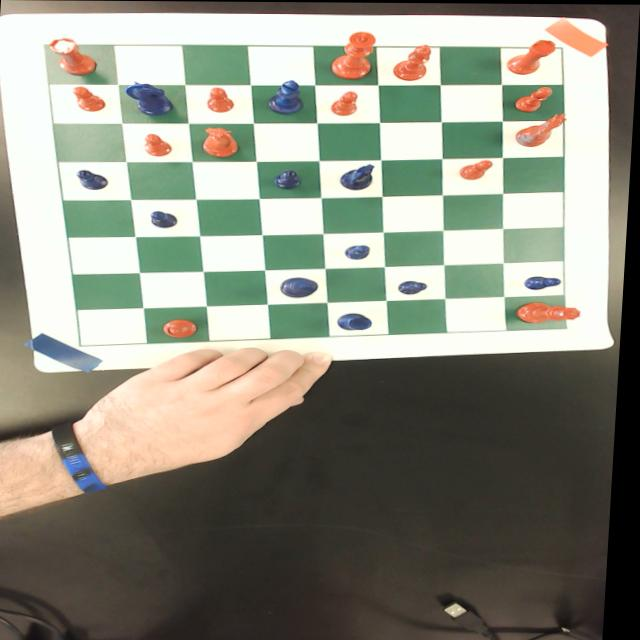B: (266, 80, 305, 114)
K: (281, 276, 322, 298)
N: (124, 82, 176, 116), (341, 164, 376, 190)
P: (76, 169, 111, 190), (274, 169, 304, 188), (150, 210, 181, 228), (526, 275, 565, 289), (399, 280, 432, 295), (347, 244, 373, 260)
R: (340, 313, 375, 331)
b: (390, 44, 433, 81), (163, 318, 202, 338)
k: (329, 31, 375, 79)
n: (512, 112, 570, 147), (201, 126, 241, 158)
p: (512, 85, 554, 112), (71, 86, 107, 112), (205, 86, 236, 113), (142, 132, 175, 157), (329, 90, 360, 116), (460, 159, 495, 179)
q: (518, 301, 585, 322)
r: (44, 37, 100, 76), (505, 38, 557, 75)
